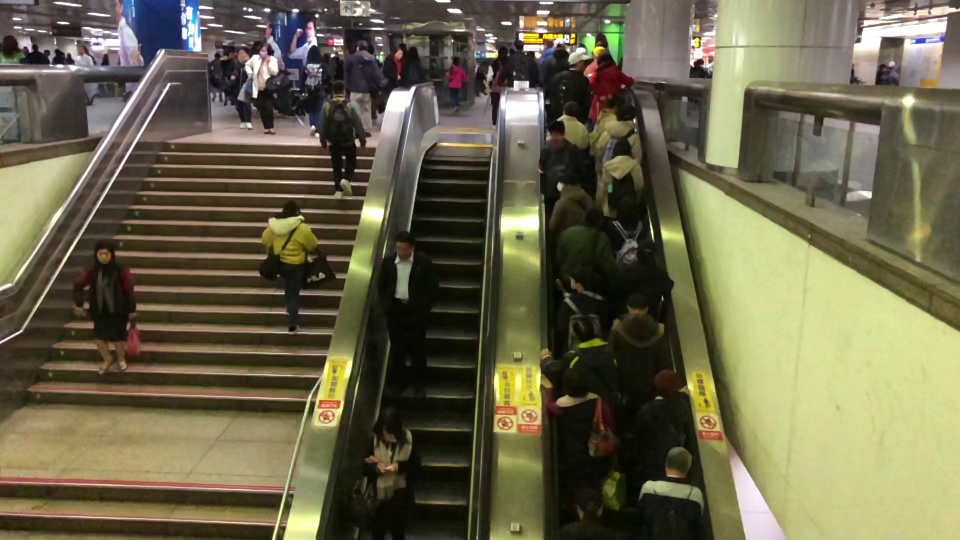person_head: (373, 405, 404, 444), (572, 486, 605, 522), (662, 445, 693, 481), (567, 265, 600, 294), (562, 365, 589, 399), (614, 195, 639, 228), (652, 368, 680, 397), (571, 316, 597, 343), (624, 292, 651, 317), (393, 231, 416, 260), (635, 236, 657, 264), (609, 136, 633, 161), (553, 169, 579, 192), (93, 240, 115, 265), (583, 206, 605, 231), (613, 101, 636, 122), (546, 119, 567, 140), (567, 52, 590, 70), (595, 49, 615, 68), (561, 100, 581, 119), (304, 44, 323, 63), (606, 94, 625, 113), (282, 199, 300, 218), (1, 35, 18, 53), (257, 42, 274, 60), (330, 79, 346, 97), (591, 46, 606, 62), (236, 45, 250, 62), (354, 39, 369, 52), (554, 39, 567, 54), (391, 45, 403, 61), (406, 46, 419, 59), (496, 46, 508, 58), (575, 43, 587, 55), (513, 39, 524, 52), (251, 40, 263, 51), (223, 49, 233, 60), (450, 55, 460, 66), (542, 38, 553, 48), (887, 60, 897, 71), (323, 51, 332, 63), (76, 45, 85, 55), (526, 50, 535, 60), (694, 57, 704, 66), (479, 60, 487, 71), (878, 63, 887, 72), (42, 48, 50, 57), (53, 48, 61, 57), (213, 51, 221, 60), (21, 46, 29, 54), (31, 43, 38, 52), (66, 51, 72, 59), (102, 52, 108, 60)
person_vbox: (539, 365, 620, 506), (378, 231, 439, 403), (620, 368, 691, 510), (605, 292, 672, 434), (70, 240, 138, 376), (260, 199, 319, 336), (363, 404, 421, 540), (538, 317, 620, 401), (635, 445, 705, 540), (551, 265, 617, 361), (317, 79, 366, 200), (554, 205, 621, 290), (537, 119, 598, 209), (612, 236, 674, 323), (342, 39, 389, 138), (545, 52, 593, 136), (597, 136, 644, 220), (556, 486, 628, 540), (587, 48, 635, 126), (593, 101, 642, 177), (547, 169, 599, 233), (299, 44, 334, 139), (243, 42, 279, 134), (604, 195, 648, 265), (545, 99, 588, 150), (230, 44, 254, 129), (588, 95, 625, 150), (486, 45, 509, 128), (496, 39, 532, 87), (538, 39, 570, 87), (74, 45, 97, 107), (444, 55, 468, 114), (382, 45, 408, 98), (687, 57, 709, 104), (220, 49, 235, 106), (208, 51, 224, 104), (0, 35, 28, 64), (583, 47, 607, 78), (406, 46, 425, 84), (24, 43, 50, 65), (474, 59, 489, 97), (535, 38, 554, 66), (525, 50, 539, 87), (874, 63, 888, 85), (887, 60, 899, 85), (52, 47, 66, 64), (64, 51, 74, 65), (99, 52, 109, 65)
